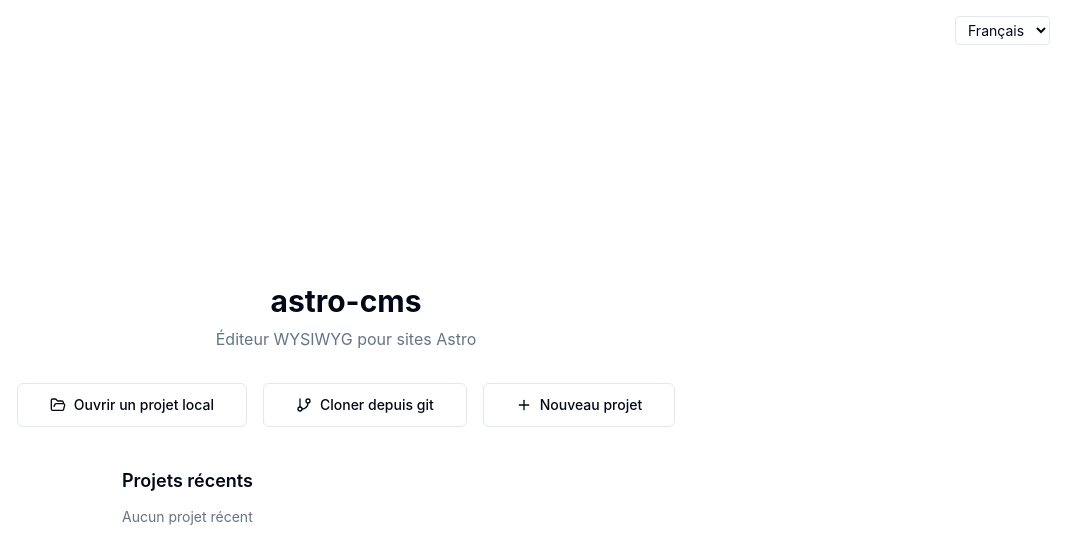
Test: i18n › Language selector › switches from French to English
Check: the button "Ouvrir un projet local" is shown, box [17,383,247,427]
Step 1. Select "English" in the dropdown named "Langue" → point(1002, 30), box [955,16,1050,45]
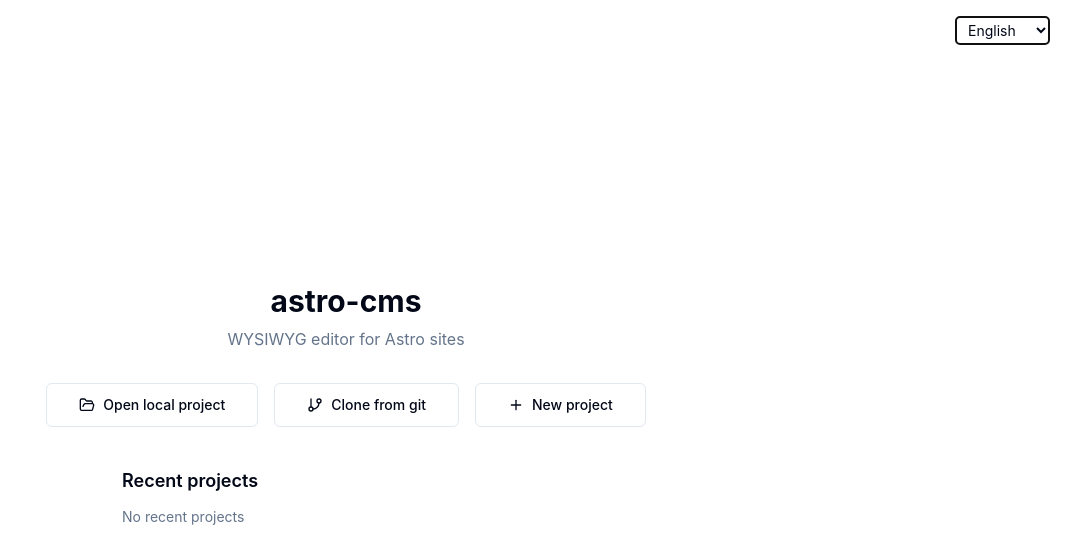
Check: the button "Open local project" is shown, box [46,383,258,427]
